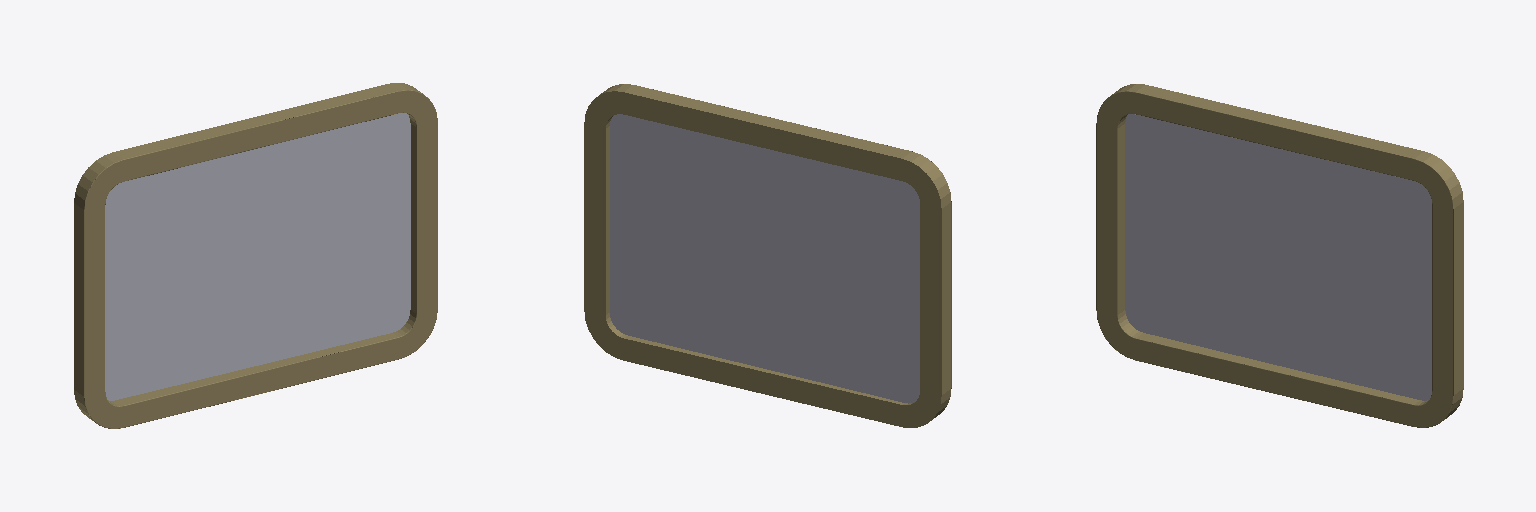
Rendered from Mirror.obj.
3 renders of one model, left to right at view 1: azimuth 30°, elevation 25°; view 2: azimuth 150°, elevation 25°; view 3: azimuth 330°, elevation 25°, orthographic.
Parts seen in each view (by area): view 1: Rectangle0, Mesh1; view 2: Rectangle0, Mesh1; view 3: Rectangle0, Mesh1.
Boxes of the visible parts, x1,y1,x2,y2 form: Rectangle0: [105, 113, 410, 400]; Mesh1: [74, 83, 437, 428]; Rectangle0: [610, 114, 919, 403]; Mesh1: [584, 84, 951, 427]; Rectangle0: [1125, 114, 1431, 400]; Mesh1: [1096, 84, 1463, 427].
Bounding box in the file's own units: 8.32 × 6 × 0.4888.